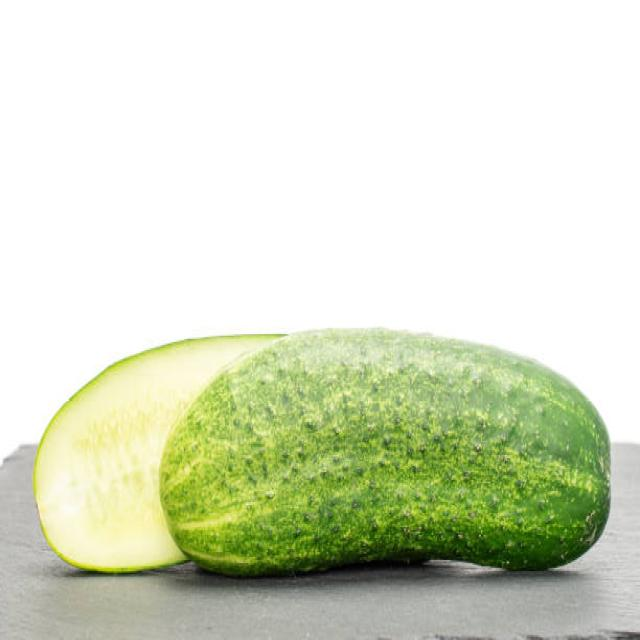cucumber: (34, 323, 612, 580)
